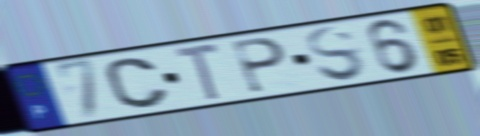6: (365, 17, 424, 77)
7: (51, 56, 100, 124)
C: (102, 56, 172, 112)
P: (229, 35, 289, 96)
S: (304, 24, 369, 84)
T: (172, 40, 223, 105)
